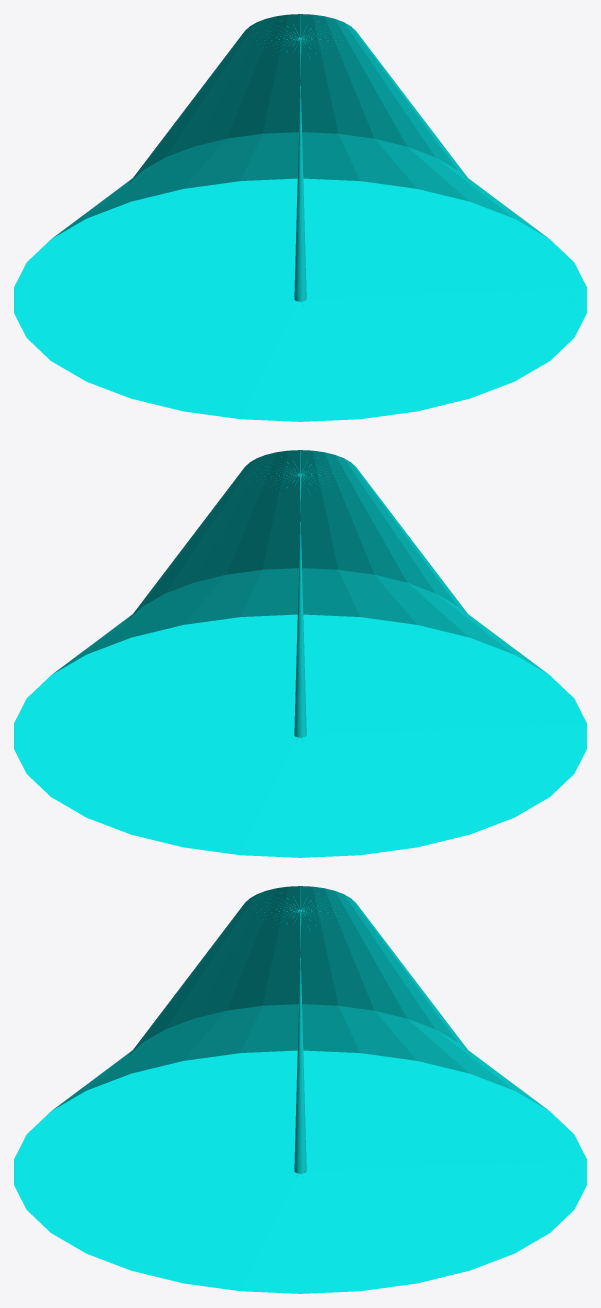
3 views of the same model, one above another, from view 1: azimuth 30°, elevation 25°; view 2: azimuth 150°, elevation 25°; view 3: azimuth 270°, elevation 25° (orthographic).
Parts seen in each view (by area): view 1: algeomath (1); view 2: algeomath (1); view 3: algeomath (1).
Part boxes in pixels (x1=…): algeomath (1): x1=14, y1=14, x2=586, y2=421; algeomath (1): x1=14, y1=450, x2=586, y2=857; algeomath (1): x1=14, y1=886, x2=586, y2=1293.
Bounding box in the file's own units: 0.3 × 0.1501 × 0.2984.
Materials: 1 (1 with a texture image).
